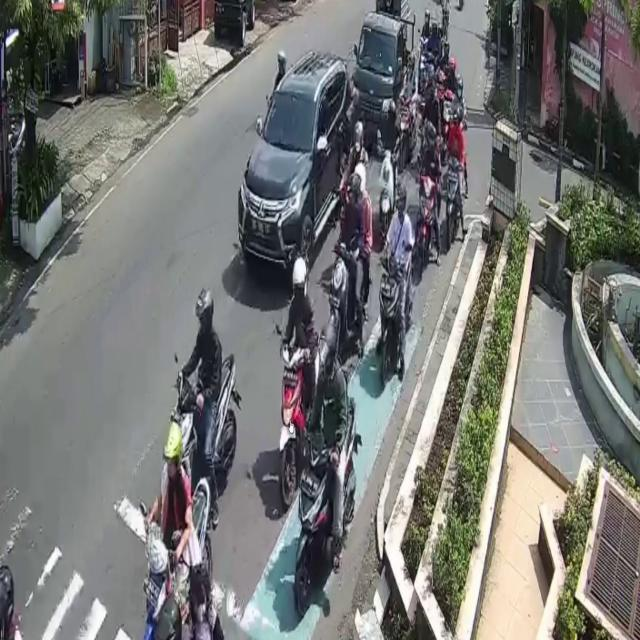car: (238, 52, 352, 280), (354, 11, 415, 139)
motorbike: (295, 396, 357, 614), (145, 475, 210, 640), (172, 353, 238, 469), (277, 343, 303, 497), (380, 252, 400, 387), (330, 236, 353, 344), (444, 146, 460, 251), (420, 172, 435, 276), (378, 150, 395, 231)
